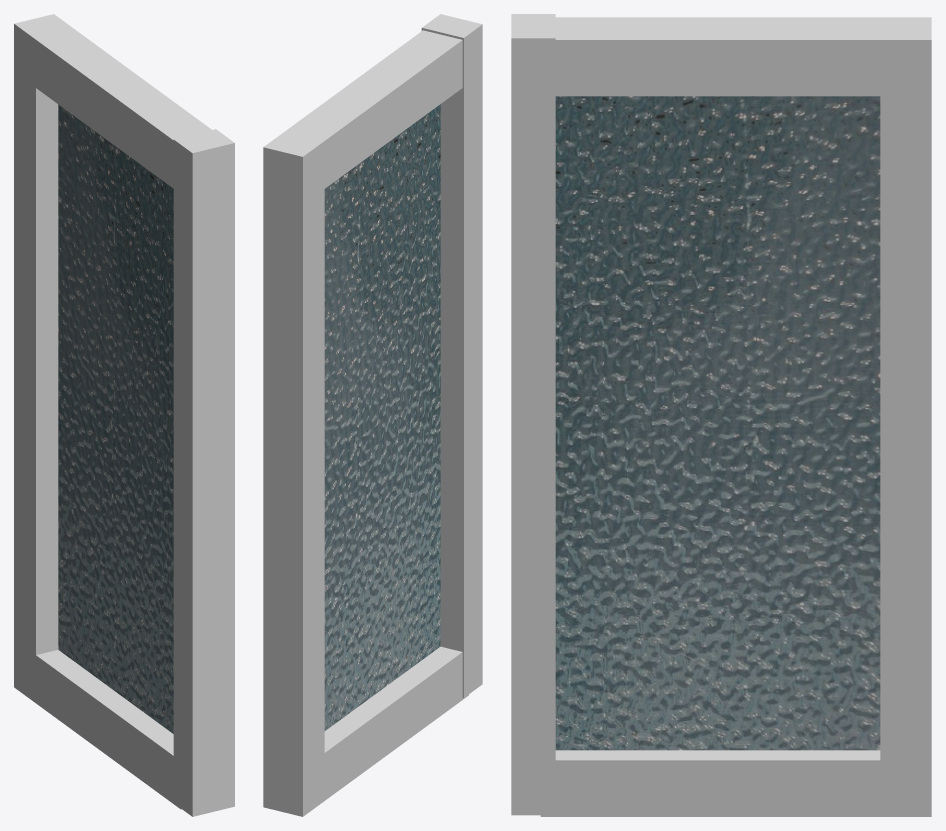
The model's file is windowder.fbx.
The picture shows the model from 3 angles, left to right: view 1: azimuth 30°, elevation 25°; view 2: azimuth 150°, elevation 25°; view 3: azimuth 270°, elevation 25°; orthographic projection. The views are drawn at different scales.
Parts seen in each view (by area): view 1: cristal derecho, Marco derecho, medio der; view 2: cristal derecho, Marco derecho, medio der; view 3: cristal derecho, Marco derecho, medio der.
Part boxes in pixels (bbox=[...]): cristal derecho: bbox=[58, 104, 173, 733]; Marco derecho: bbox=[14, 14, 211, 809]; medio der: bbox=[173, 129, 234, 816]; cristal derecho: bbox=[324, 104, 440, 730]; Marco derecho: bbox=[263, 30, 468, 816]; medio der: bbox=[421, 14, 482, 697]; cristal derecho: bbox=[555, 96, 880, 750]; Marco derecho: bbox=[540, 17, 931, 816]; medio der: bbox=[511, 14, 555, 815].
Size of the model in its own units: 13.35 by 201 by 98.11.
3 materials, 1 textured.
